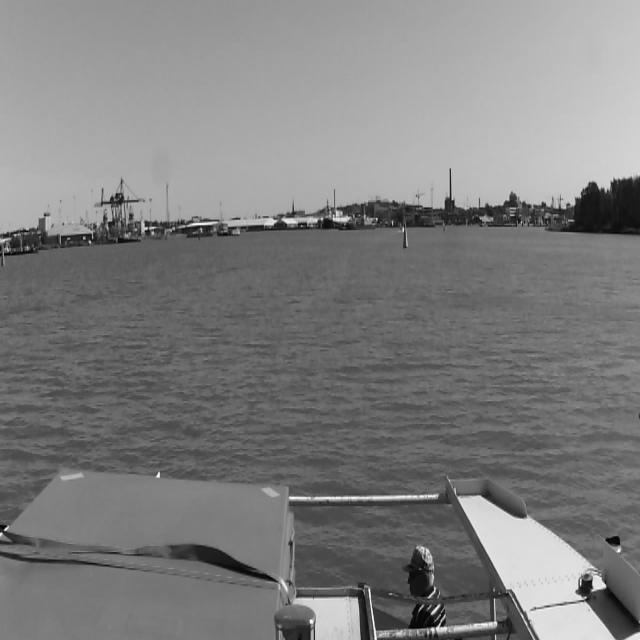buoy: (402, 220, 408, 246)
